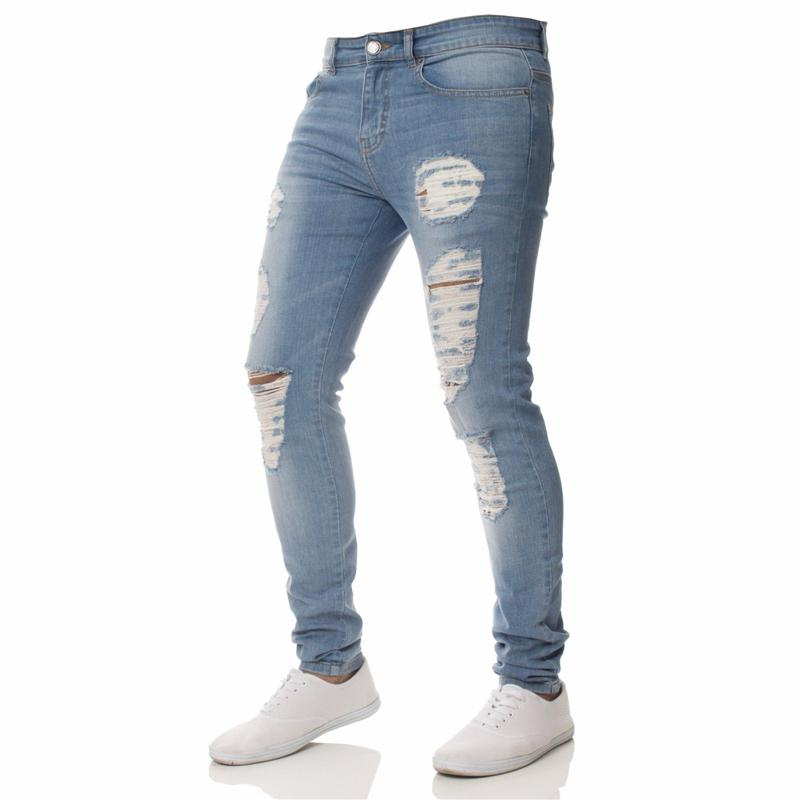jeans: (214, 23, 579, 693)
